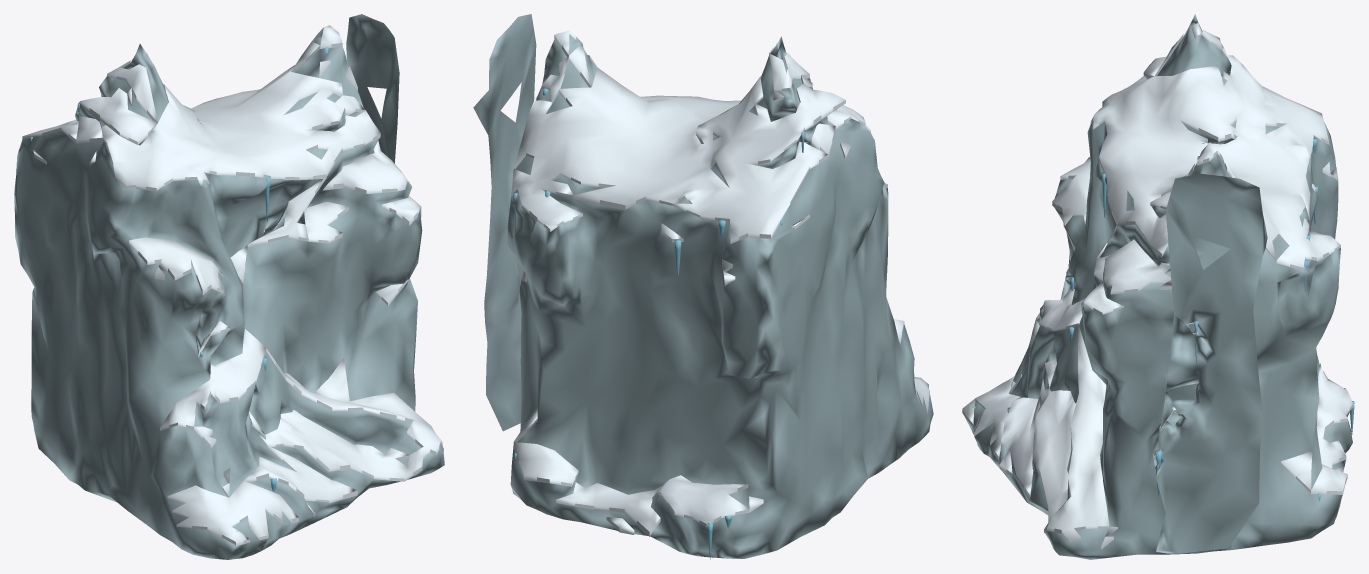
The model's file is SnowForest_Wall.fbx.
3 renders of one model, left to right at view 1: azimuth 30°, elevation 25°; view 2: azimuth 150°, elevation 25°; view 3: azimuth 270°, elevation 25°, orthographic. The views are drawn at different scales.
Parts seen in each view (by area): view 1: SnowForest_Wall_LOD0; view 2: SnowForest_Wall_LOD0; view 3: SnowForest_Wall_LOD0.
Boxes of the visible parts, bbox=[...] form: SnowForest_Wall_LOD0: bbox=[14, 14, 444, 559]; SnowForest_Wall_LOD0: bbox=[473, 14, 933, 559]; SnowForest_Wall_LOD0: bbox=[962, 14, 1354, 559].
Size of what is drawn, in the model's own units: 6.01 by 7.89 by 6.49.
